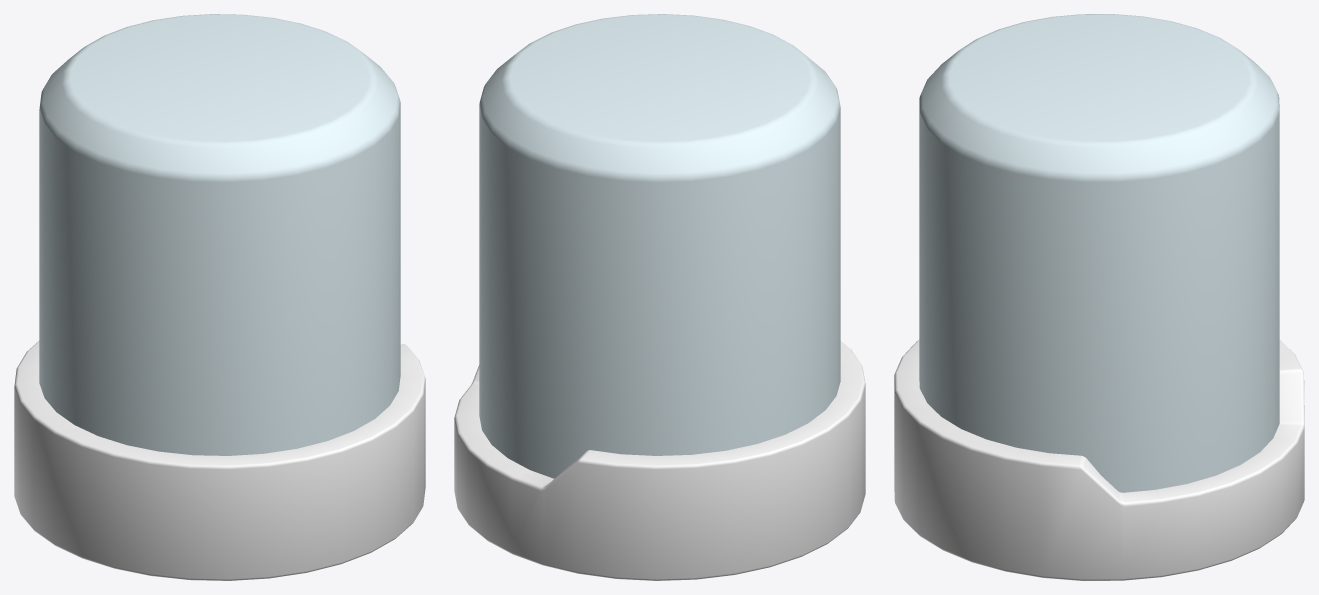
Rendered from plant.fbx.
The picture shows the model from 3 angles, left to right: view 1: azimuth 30°, elevation 25°; view 2: azimuth 150°, elevation 25°; view 3: azimuth 270°, elevation 25°; orthographic projection.
Visible parts, largest first — view 1: Circle, Plant; view 2: Circle, Plant; view 3: Circle, Plant.
Boxes of the visible parts, x1=… form: Circle: x1=39, y1=14, x2=400, y2=455; Plant: x1=14, y1=341, x2=425, y2=580; Circle: x1=479, y1=14, x2=840, y2=478; Plant: x1=454, y1=341, x2=865, y2=580; Circle: x1=919, y1=14, x2=1279, y2=492; Plant: x1=894, y1=340, x2=1304, y2=580.
Size of the model in its own units: 99.29 by 111 by 99.29.
